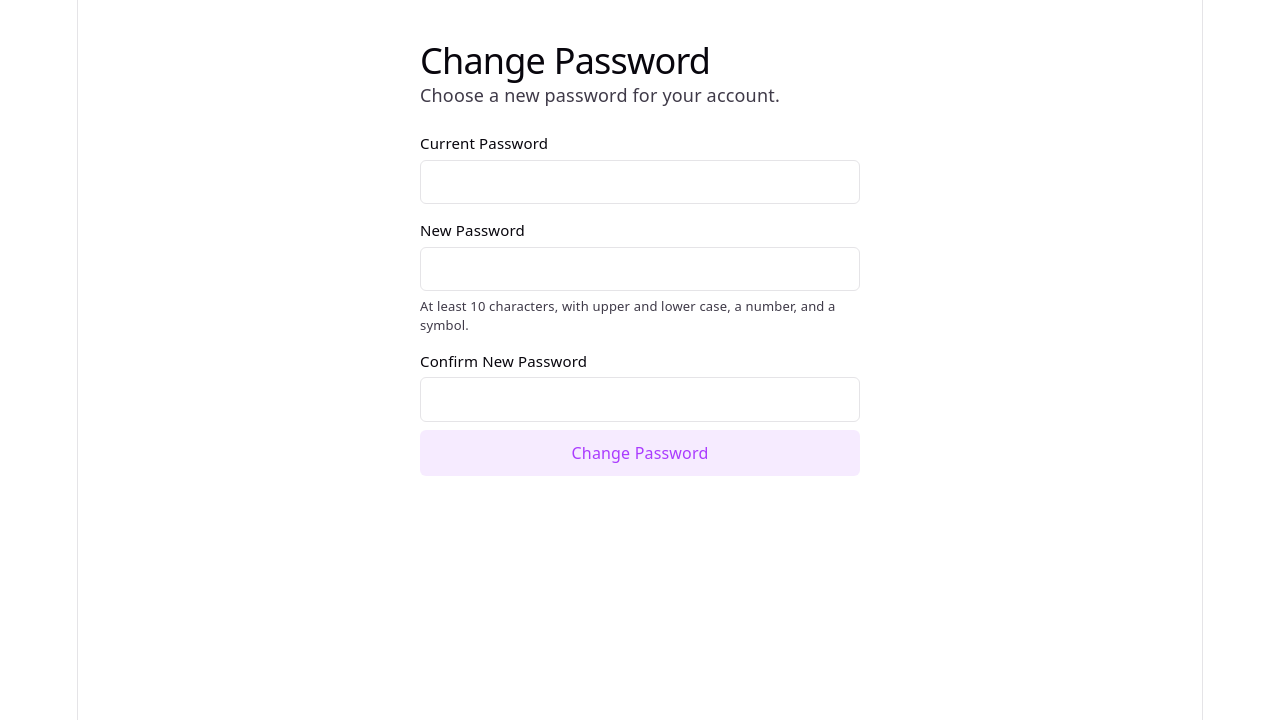
it: ChangePasswordPage › validates required fields
This screenshot has width=1280, height=720.
Click the button "Change Password" at [640, 453], box [420,430,860,476]
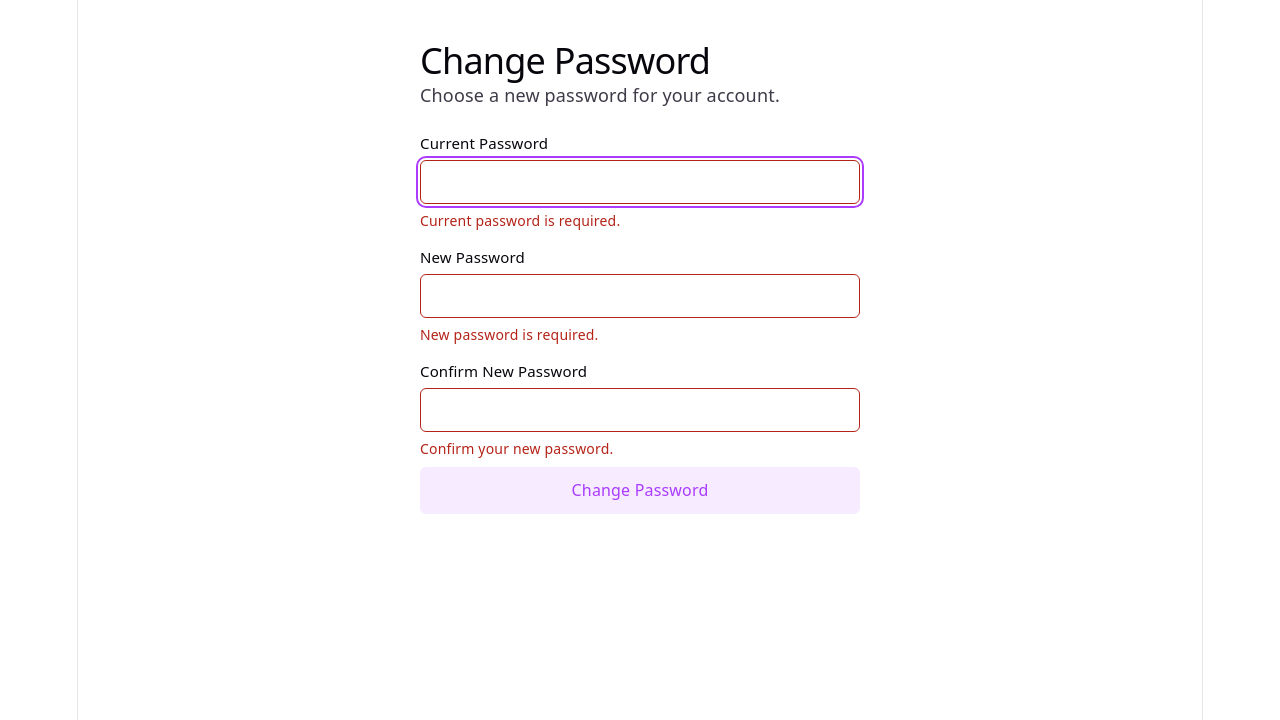
Now the text "Current password is required." is shown, box [420,211,620,230]
Now the text "New password is required." is shown, box [420,325,598,344]
Now the text "Confirm your new password." is shown, box [420,439,613,458]
